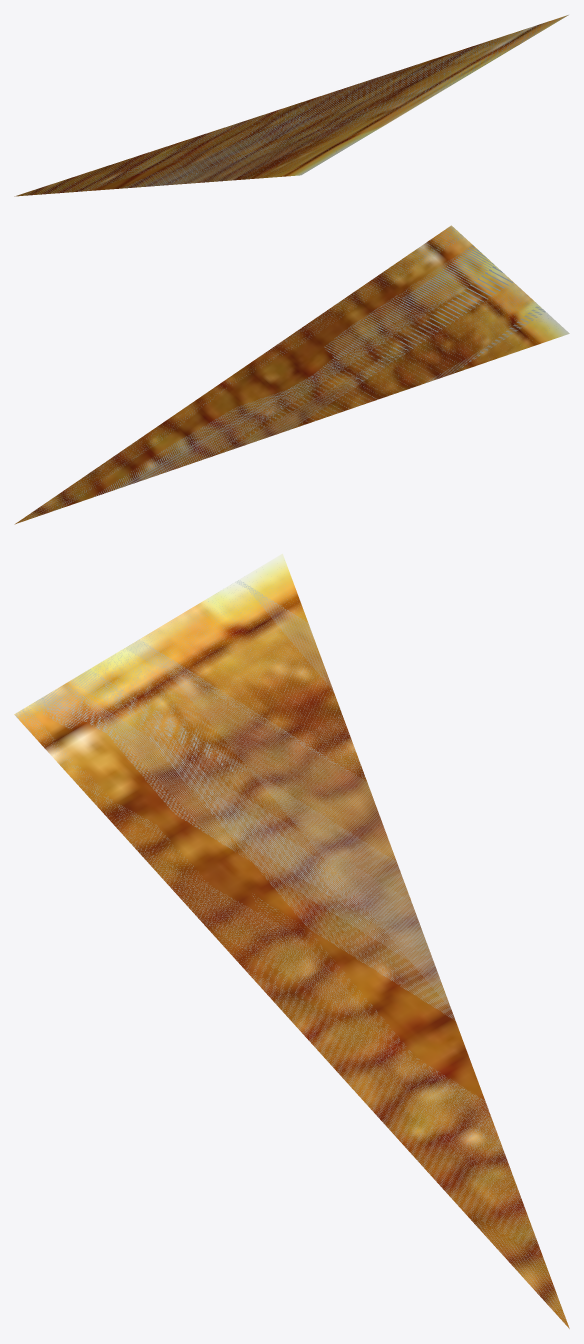
File: 西庸城堡529.dae
The picture shows the model from 3 angles, top to bottom: view 1: azimuth 90°, elevation 25°; view 2: azimuth 150°, elevation 25°; view 3: azimuth 270°, elevation 25°; orthographic projection. The views are drawn at different scales.
Visible parts, largest first — view 1: SketchUp; view 2: SketchUp; view 3: SketchUp.
Boxes of the visible parts, x1=… form: SketchUp: x1=14, y1=15, x2=568, y2=196; SketchUp: x1=14, y1=225, x2=569, y2=524; SketchUp: x1=14, y1=553, x2=569, y2=1328.
Bounding box in the file's own units: 79.95 × 49.77 × 39.37.
